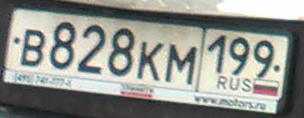character: (48, 20, 80, 73), (75, 23, 107, 75), (163, 42, 198, 86), (108, 27, 135, 78), (137, 39, 166, 84), (251, 35, 276, 78), (228, 33, 251, 79), (19, 29, 46, 68), (206, 31, 228, 75)
